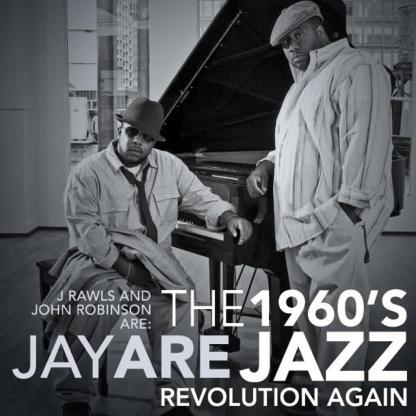face: (282, 25, 320, 68), (122, 120, 155, 162)
